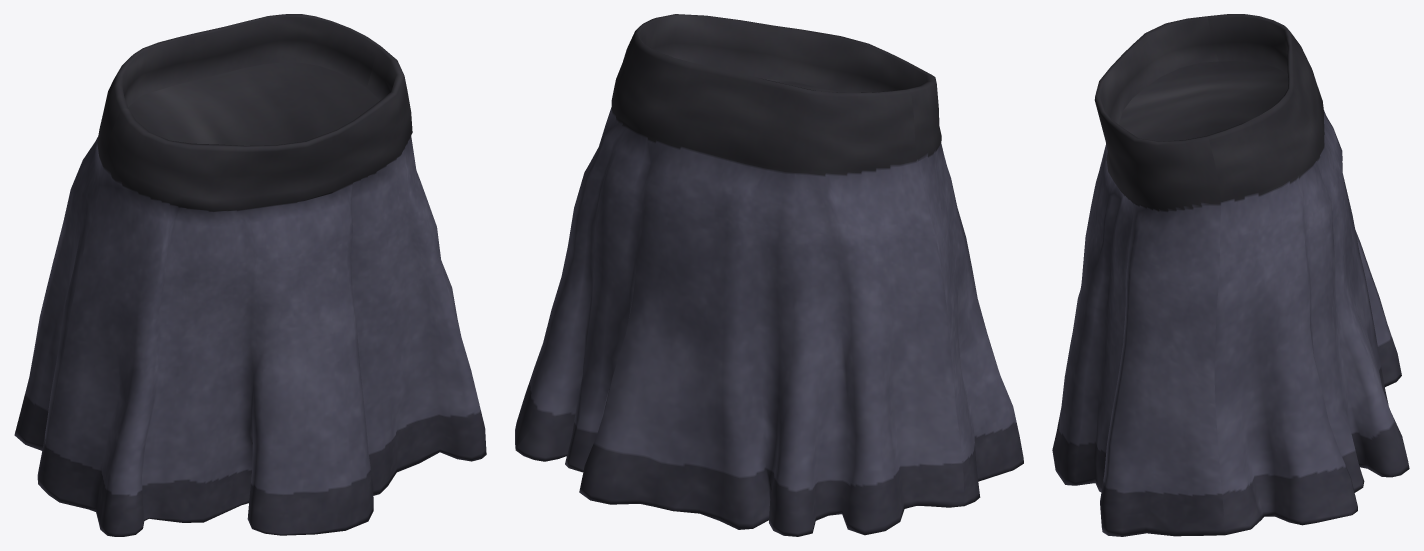
The model's file is bottom_1.obj.
The picture shows the model from 3 angles, left to right: view 1: azimuth 30°, elevation 25°; view 2: azimuth 150°, elevation 25°; view 3: azimuth 270°, elevation 25°; orthographic projection. The views are drawn at different scales.
Visible parts, largest first — view 1: cloth_3:Bottoms; view 2: cloth_3:Bottoms; view 3: cloth_3:Bottoms.
Boxes of the visible parts, x1,y1,x2,y2 form: cloth_3:Bottoms: (14,14,486,536); cloth_3:Bottoms: (515,14,1023,536); cloth_3:Bottoms: (1052,14,1409,536).
Size of the model in its own units: 48.1 by 47 by 37.61.
Materials: 1 (1 with a texture image).
